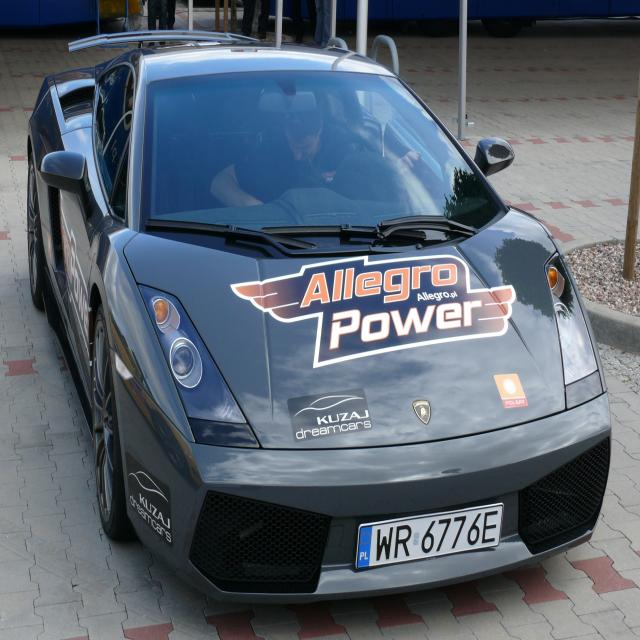pl_license_plate: (357, 506, 503, 566)
